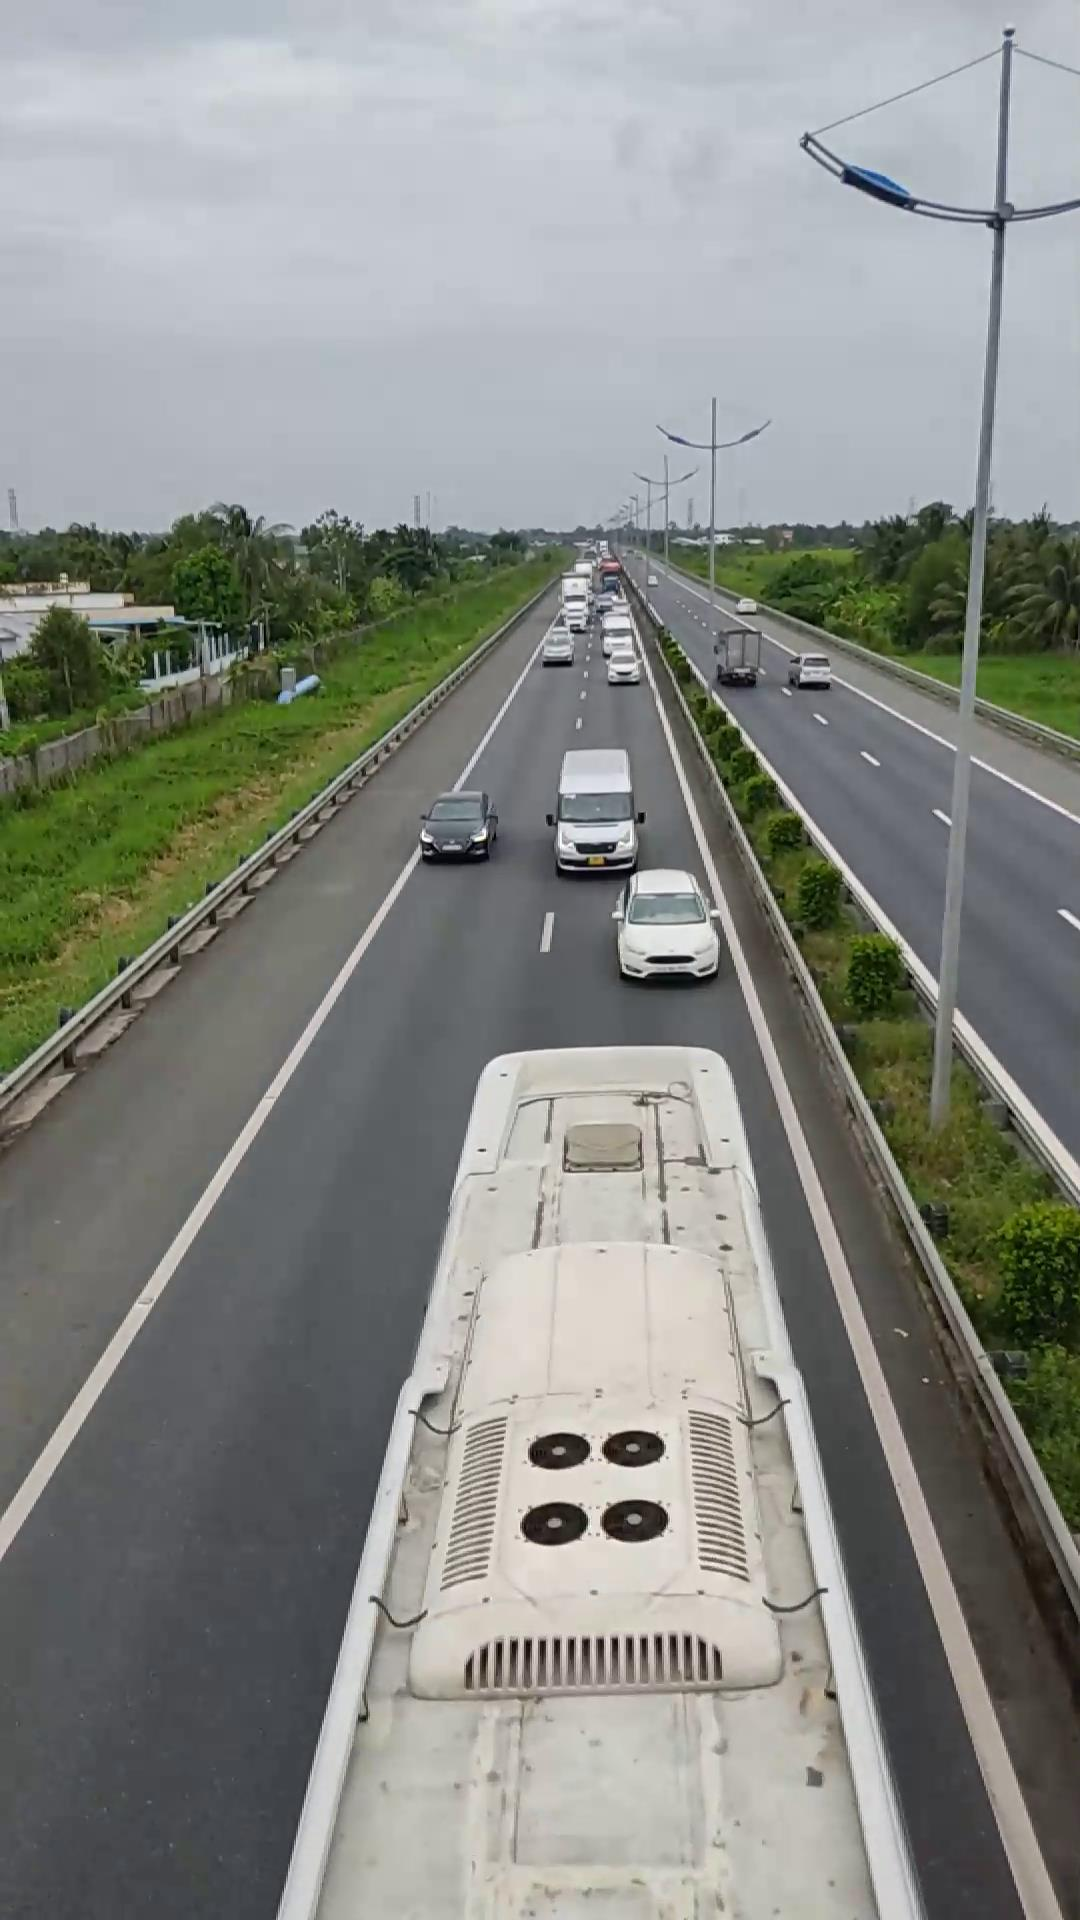bus: (274, 1036, 907, 1917)
car: (611, 866, 723, 981), (546, 746, 645, 874), (418, 789, 498, 861)
